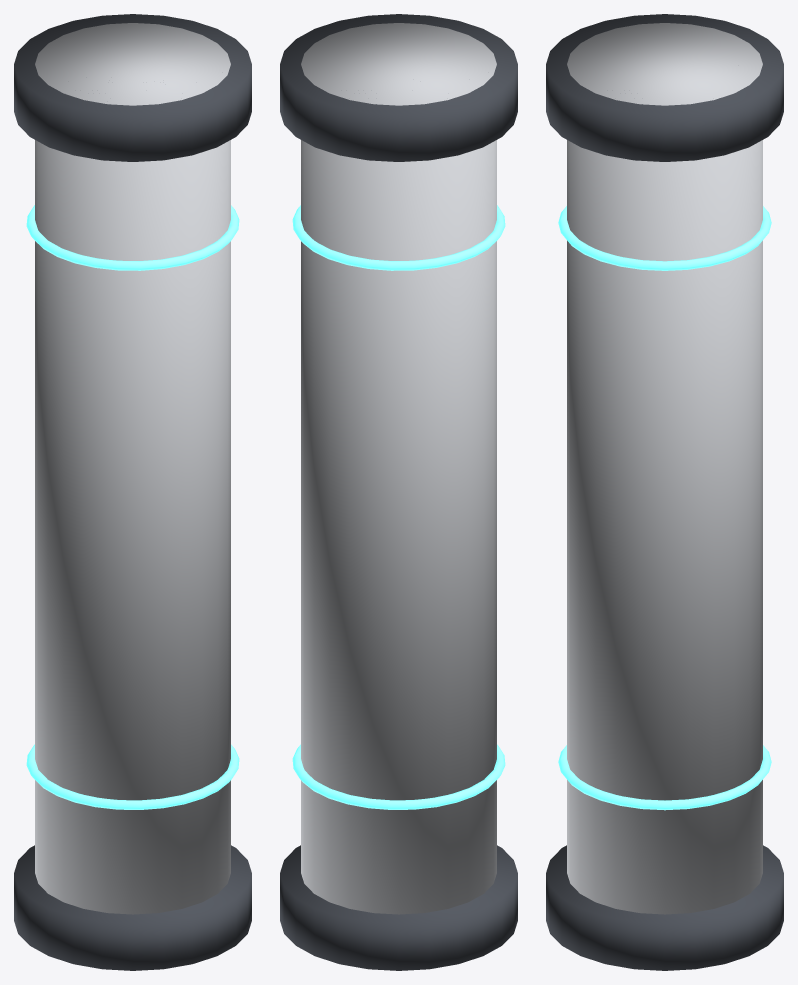
Rendered from pillar_plain_column.glb.
3 renders of one model, left to right at view 1: azimuth 30°, elevation 25°; view 2: azimuth 150°, elevation 25°; view 3: azimuth 270°, elevation 25°, orthographic.
Parts seen in each view (by area): view 1: GD_pillar_plain_column__m0, GD_pillar_plain_column__m1, GD_pillar_plain_column__m2; view 2: GD_pillar_plain_column__m0, GD_pillar_plain_column__m1, GD_pillar_plain_column__m2; view 3: GD_pillar_plain_column__m0, GD_pillar_plain_column__m1, GD_pillar_plain_column__m2.
Boxes of the visible parts, x1=… form: GD_pillar_plain_column__m0: x1=35, y1=23, x2=230, y2=914; GD_pillar_plain_column__m1: x1=14, y1=14, x2=251, y2=970; GD_pillar_plain_column__m2: x1=26, y1=205, x2=239, y2=809; GD_pillar_plain_column__m0: x1=301, y1=23, x2=496, y2=914; GD_pillar_plain_column__m1: x1=280, y1=14, x2=517, y2=970; GD_pillar_plain_column__m2: x1=292, y1=205, x2=505, y2=809; GD_pillar_plain_column__m0: x1=567, y1=23, x2=762, y2=914; GD_pillar_plain_column__m1: x1=546, y1=14, x2=783, y2=970; GD_pillar_plain_column__m2: x1=558, y1=206, x2=771, y2=810.
Bounding box in the file's own units: 0.68 × 2.7 × 0.68.
